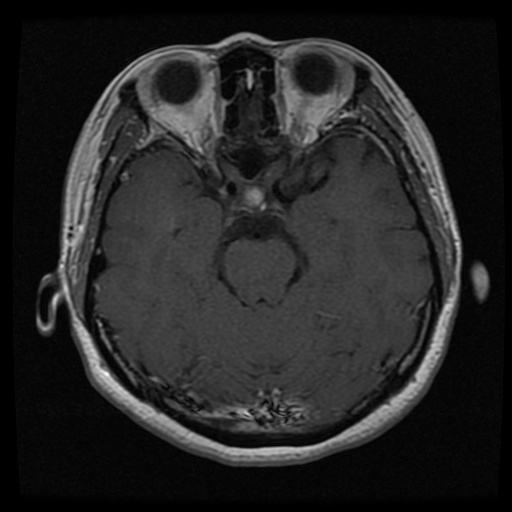pituitary: (234, 178, 273, 211)
